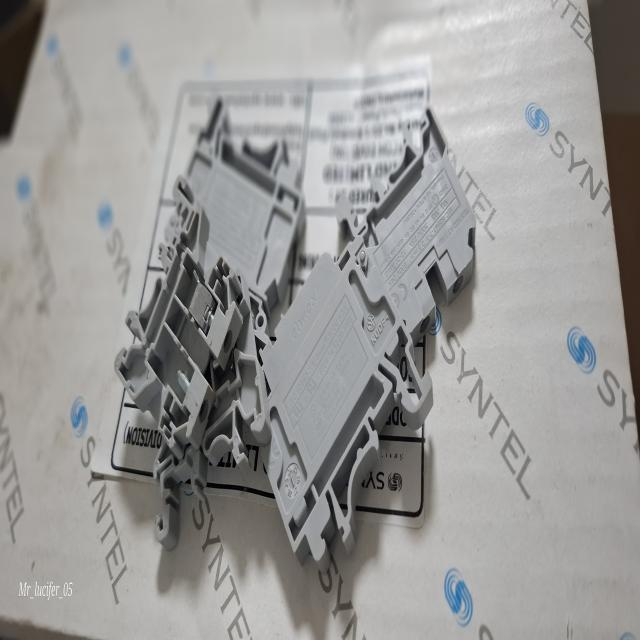Inverted: (340, 86, 492, 360)
Reject: (119, 214, 244, 556)
